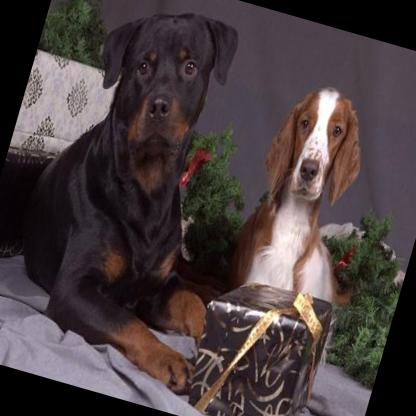Welsh_springer_spaniel: (195, 67, 402, 404)
